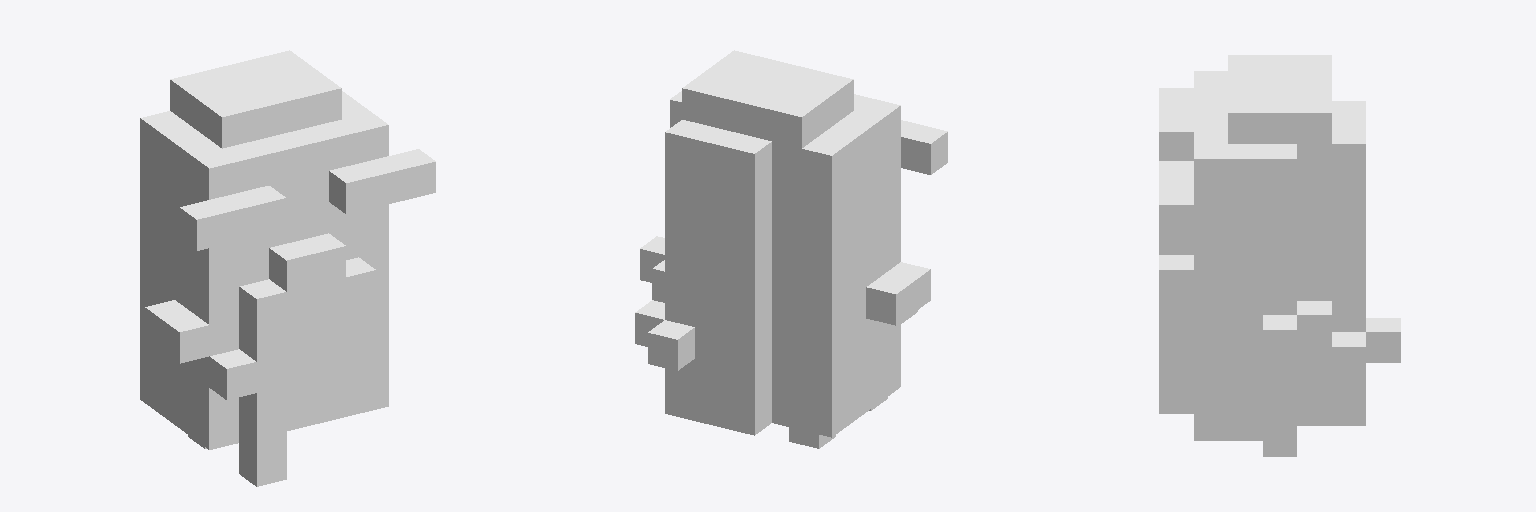
The model's file is chinaopi.obj.
3 renders of one model, left to right at view 1: azimuth 30°, elevation 25°; view 2: azimuth 150°, elevation 25°; view 3: azimuth 270°, elevation 25°, orthographic.
Bounding box in the file's own units: 8 × 11 × 7.